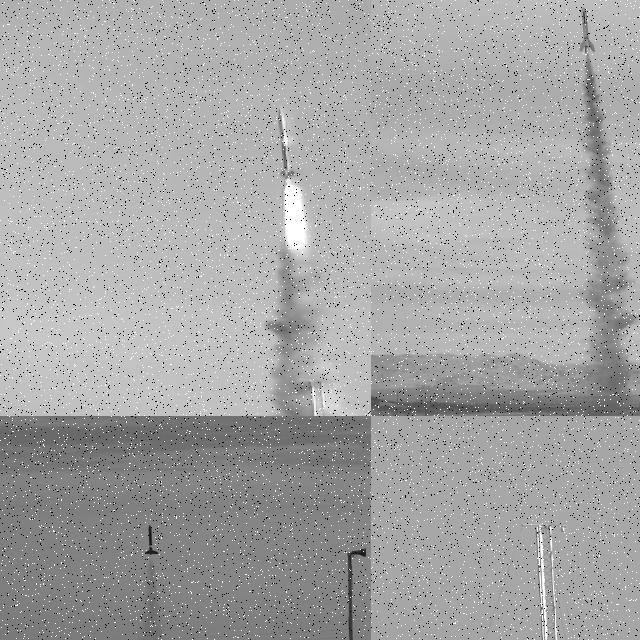Rocket: (278, 106, 296, 178), (578, 6, 597, 54), (144, 525, 159, 555)
